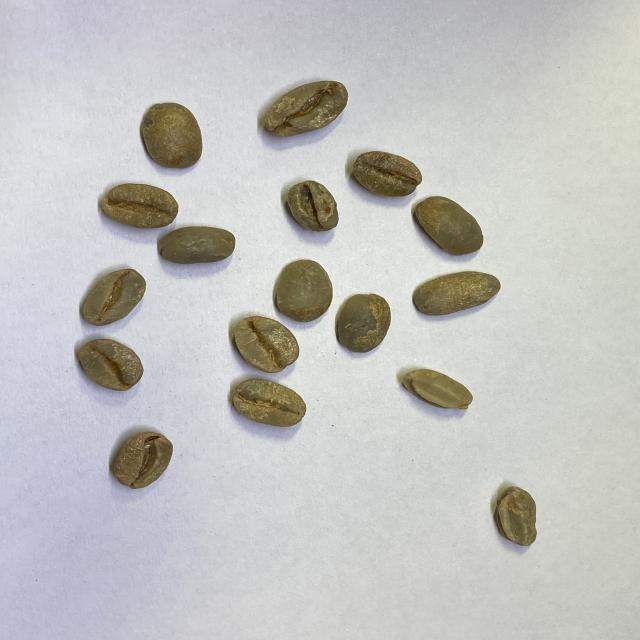bad: (262, 79, 348, 134), (404, 368, 474, 412), (495, 483, 541, 548), (285, 180, 341, 232)
good: (413, 195, 484, 257), (411, 269, 501, 317), (140, 100, 203, 168), (229, 376, 309, 429), (232, 314, 300, 374), (80, 267, 148, 326), (109, 430, 174, 491), (273, 258, 333, 323), (77, 337, 145, 394), (101, 181, 179, 228), (336, 293, 392, 353), (353, 151, 423, 197), (157, 225, 235, 265)
